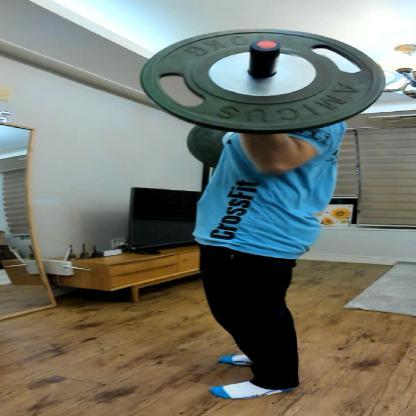Barbell: (250, 37, 288, 58)
